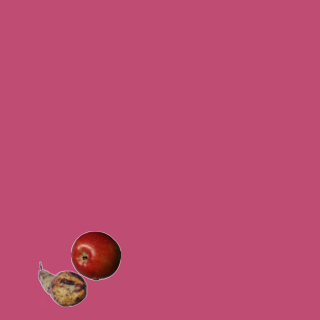Apple Braeburn: (70, 230, 120, 280)
Pear Abate: (37, 259, 87, 309)
